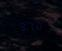seven: (27, 20, 34, 30)
three: (18, 20, 25, 31)
zero: (35, 19, 42, 30)
